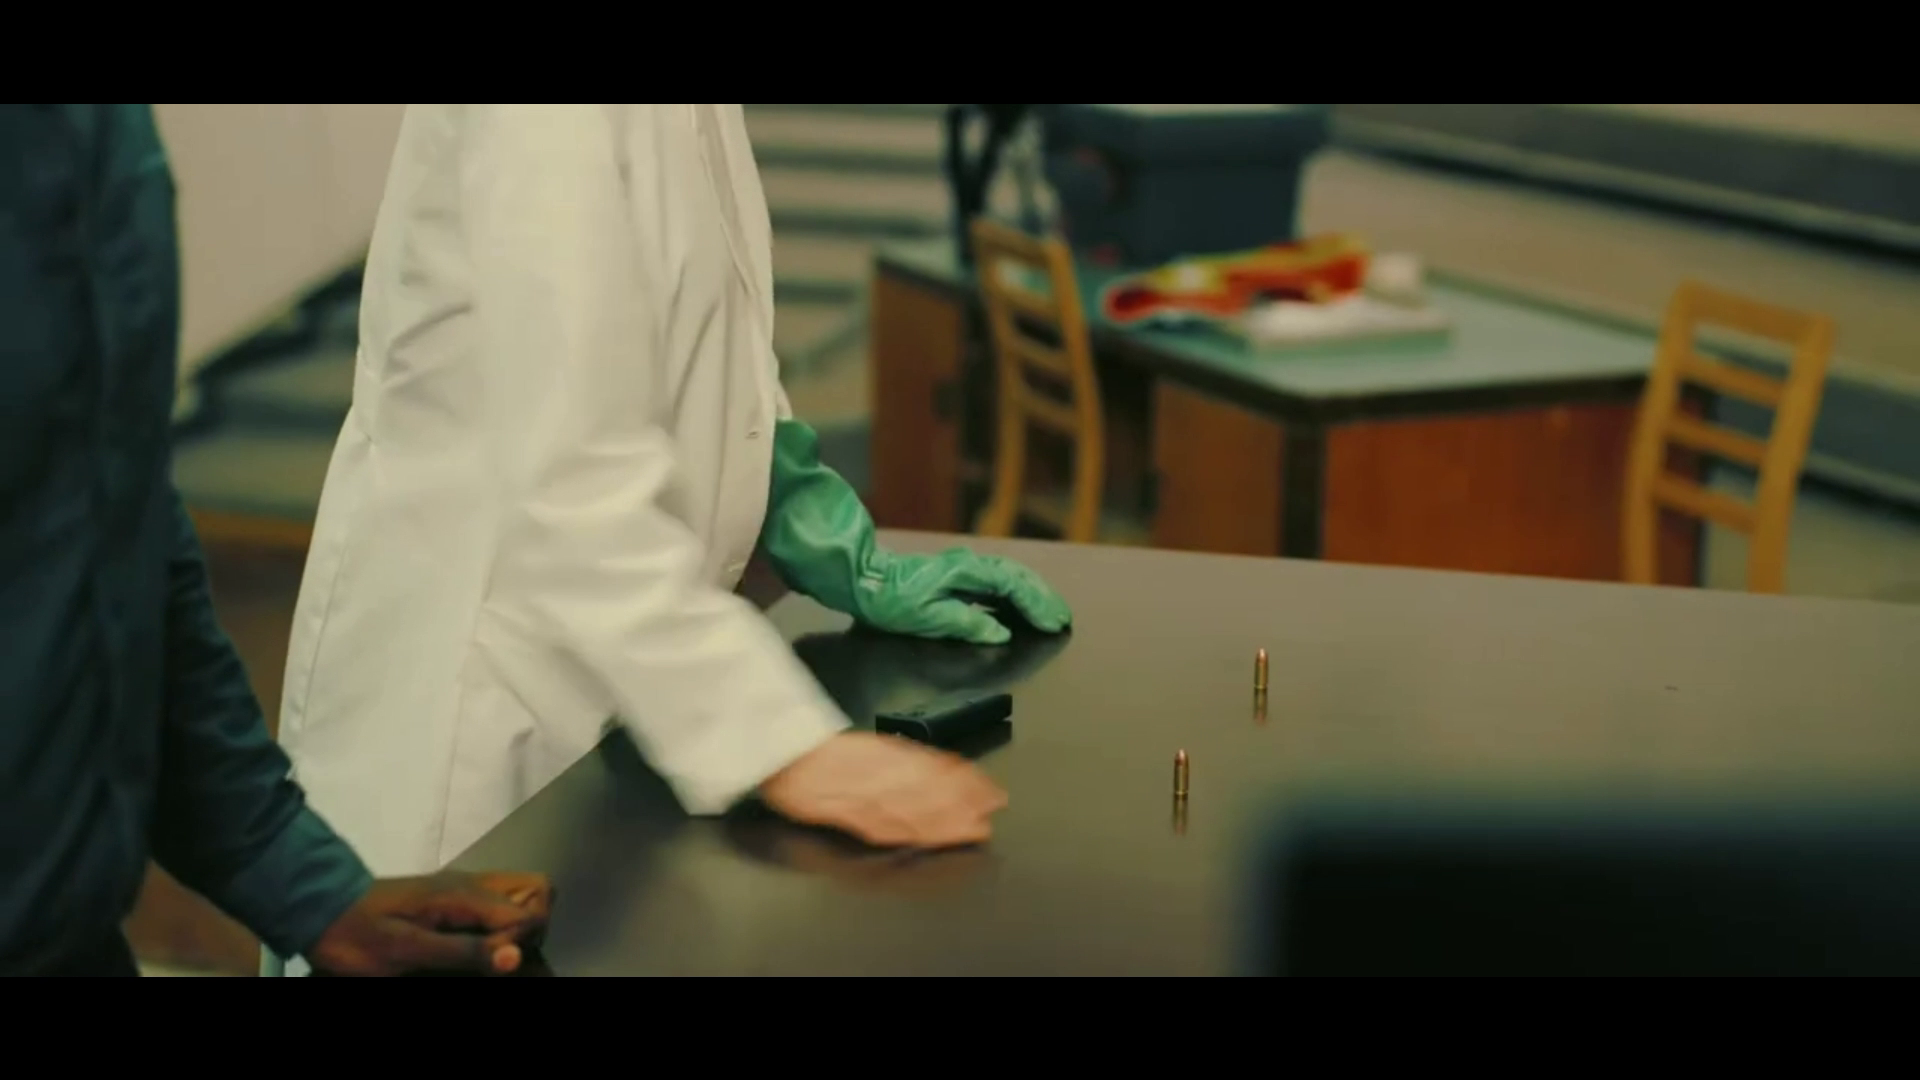Bullet: (1170, 745, 1193, 807), (1251, 644, 1273, 699)
